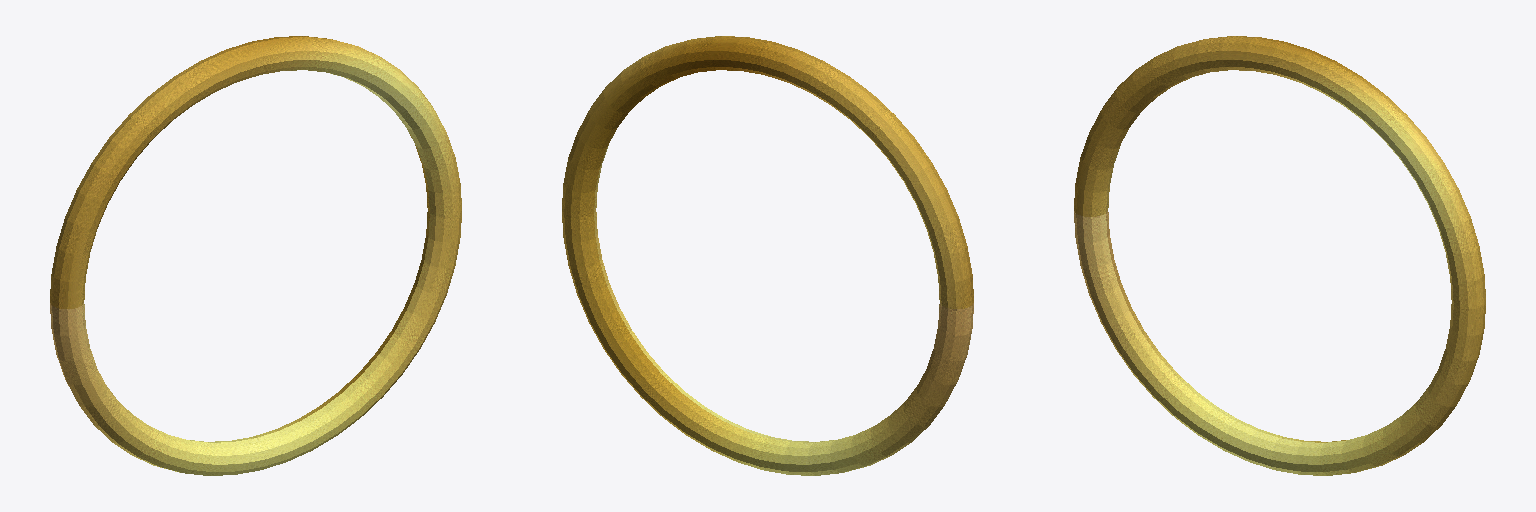
3 renders of one model, left to right at view 1: azimuth 30°, elevation 25°; view 2: azimuth 150°, elevation 25°; view 3: azimuth 330°, elevation 25°, orthographic.
Parts seen in each view (by area): view 1: トーラス; view 2: トーラス; view 3: トーラス.
Part boxes in pixels (x1,y1,x2,y2): トーラス: (50, 36, 461, 475); トーラス: (562, 36, 973, 475); トーラス: (1074, 36, 1485, 475).
Bounding box in the file's own units: 2.16 × 2.16 × 0.1588.
1 materials, 1 textured.